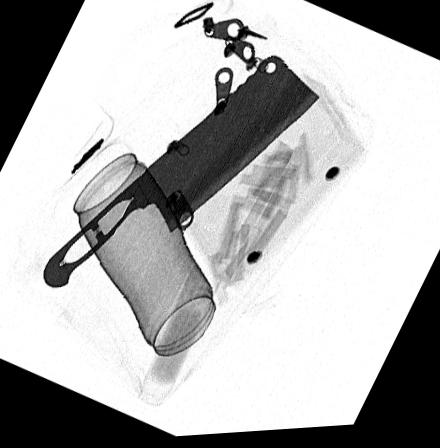Knife: (42, 58, 321, 288)
